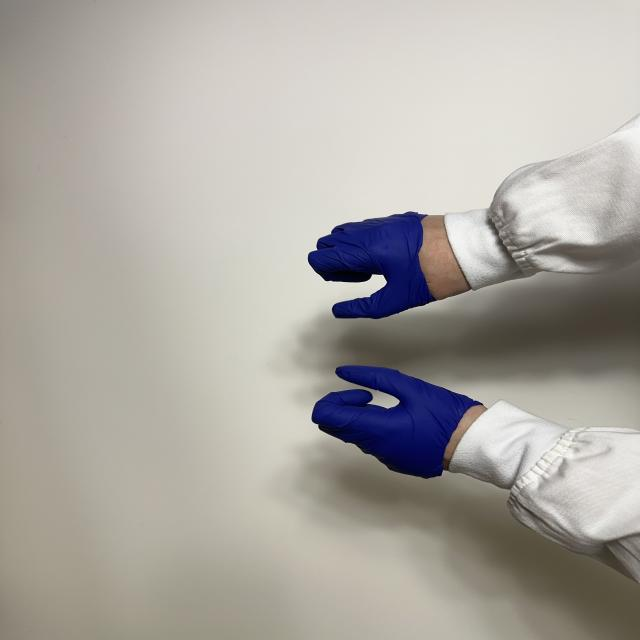glove_not_fitted: (311, 361, 487, 482), (306, 210, 478, 322)
